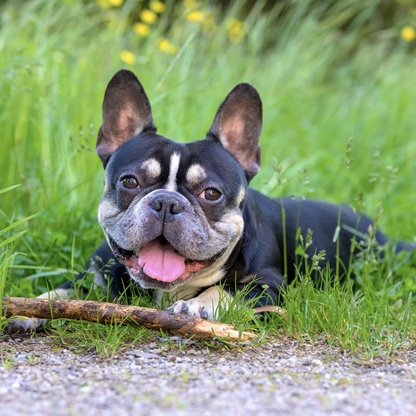bulldog: (86, 69, 283, 319)
